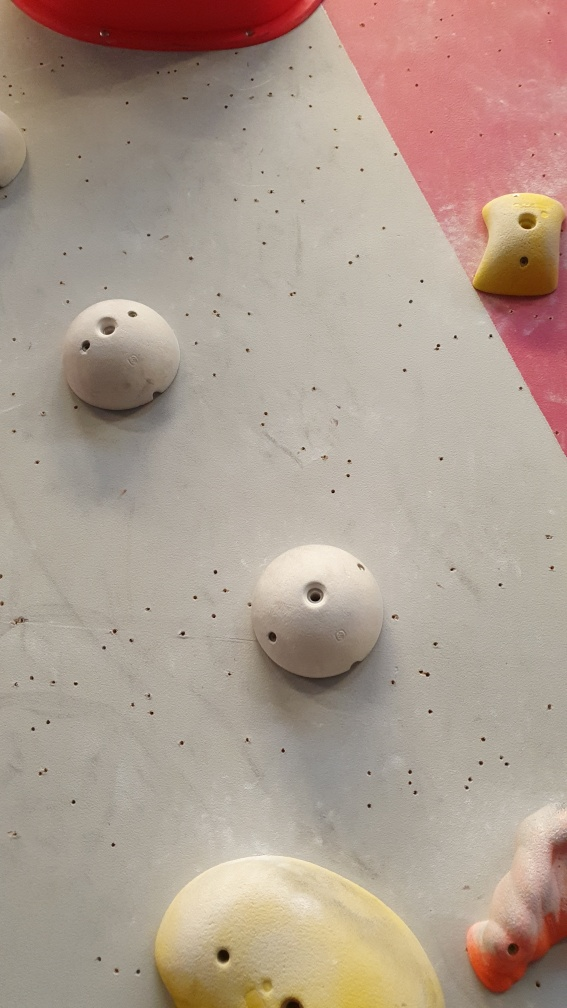Jug: (465, 797, 566, 997)
Pinch: (475, 187, 567, 308)
Sloper: (254, 540, 387, 684), (61, 296, 190, 420)
